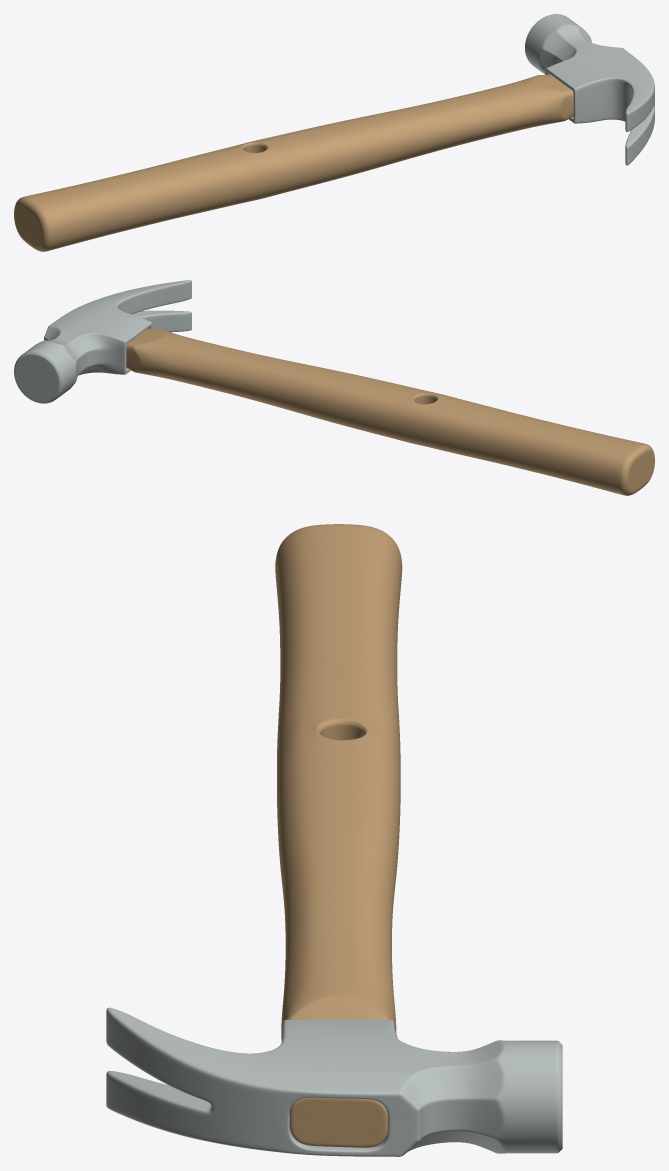
File: tool_hammer_a03.glb
The picture shows the model from 3 angles, top to bottom: view 1: azimuth 30°, elevation 25°; view 2: azimuth 150°, elevation 25°; view 3: azimuth 270°, elevation 25°; orthographic projection. The views are drawn at different scales.
Bounding box in the file's own units: 0.3045 × 0.0257 × 0.1042.
